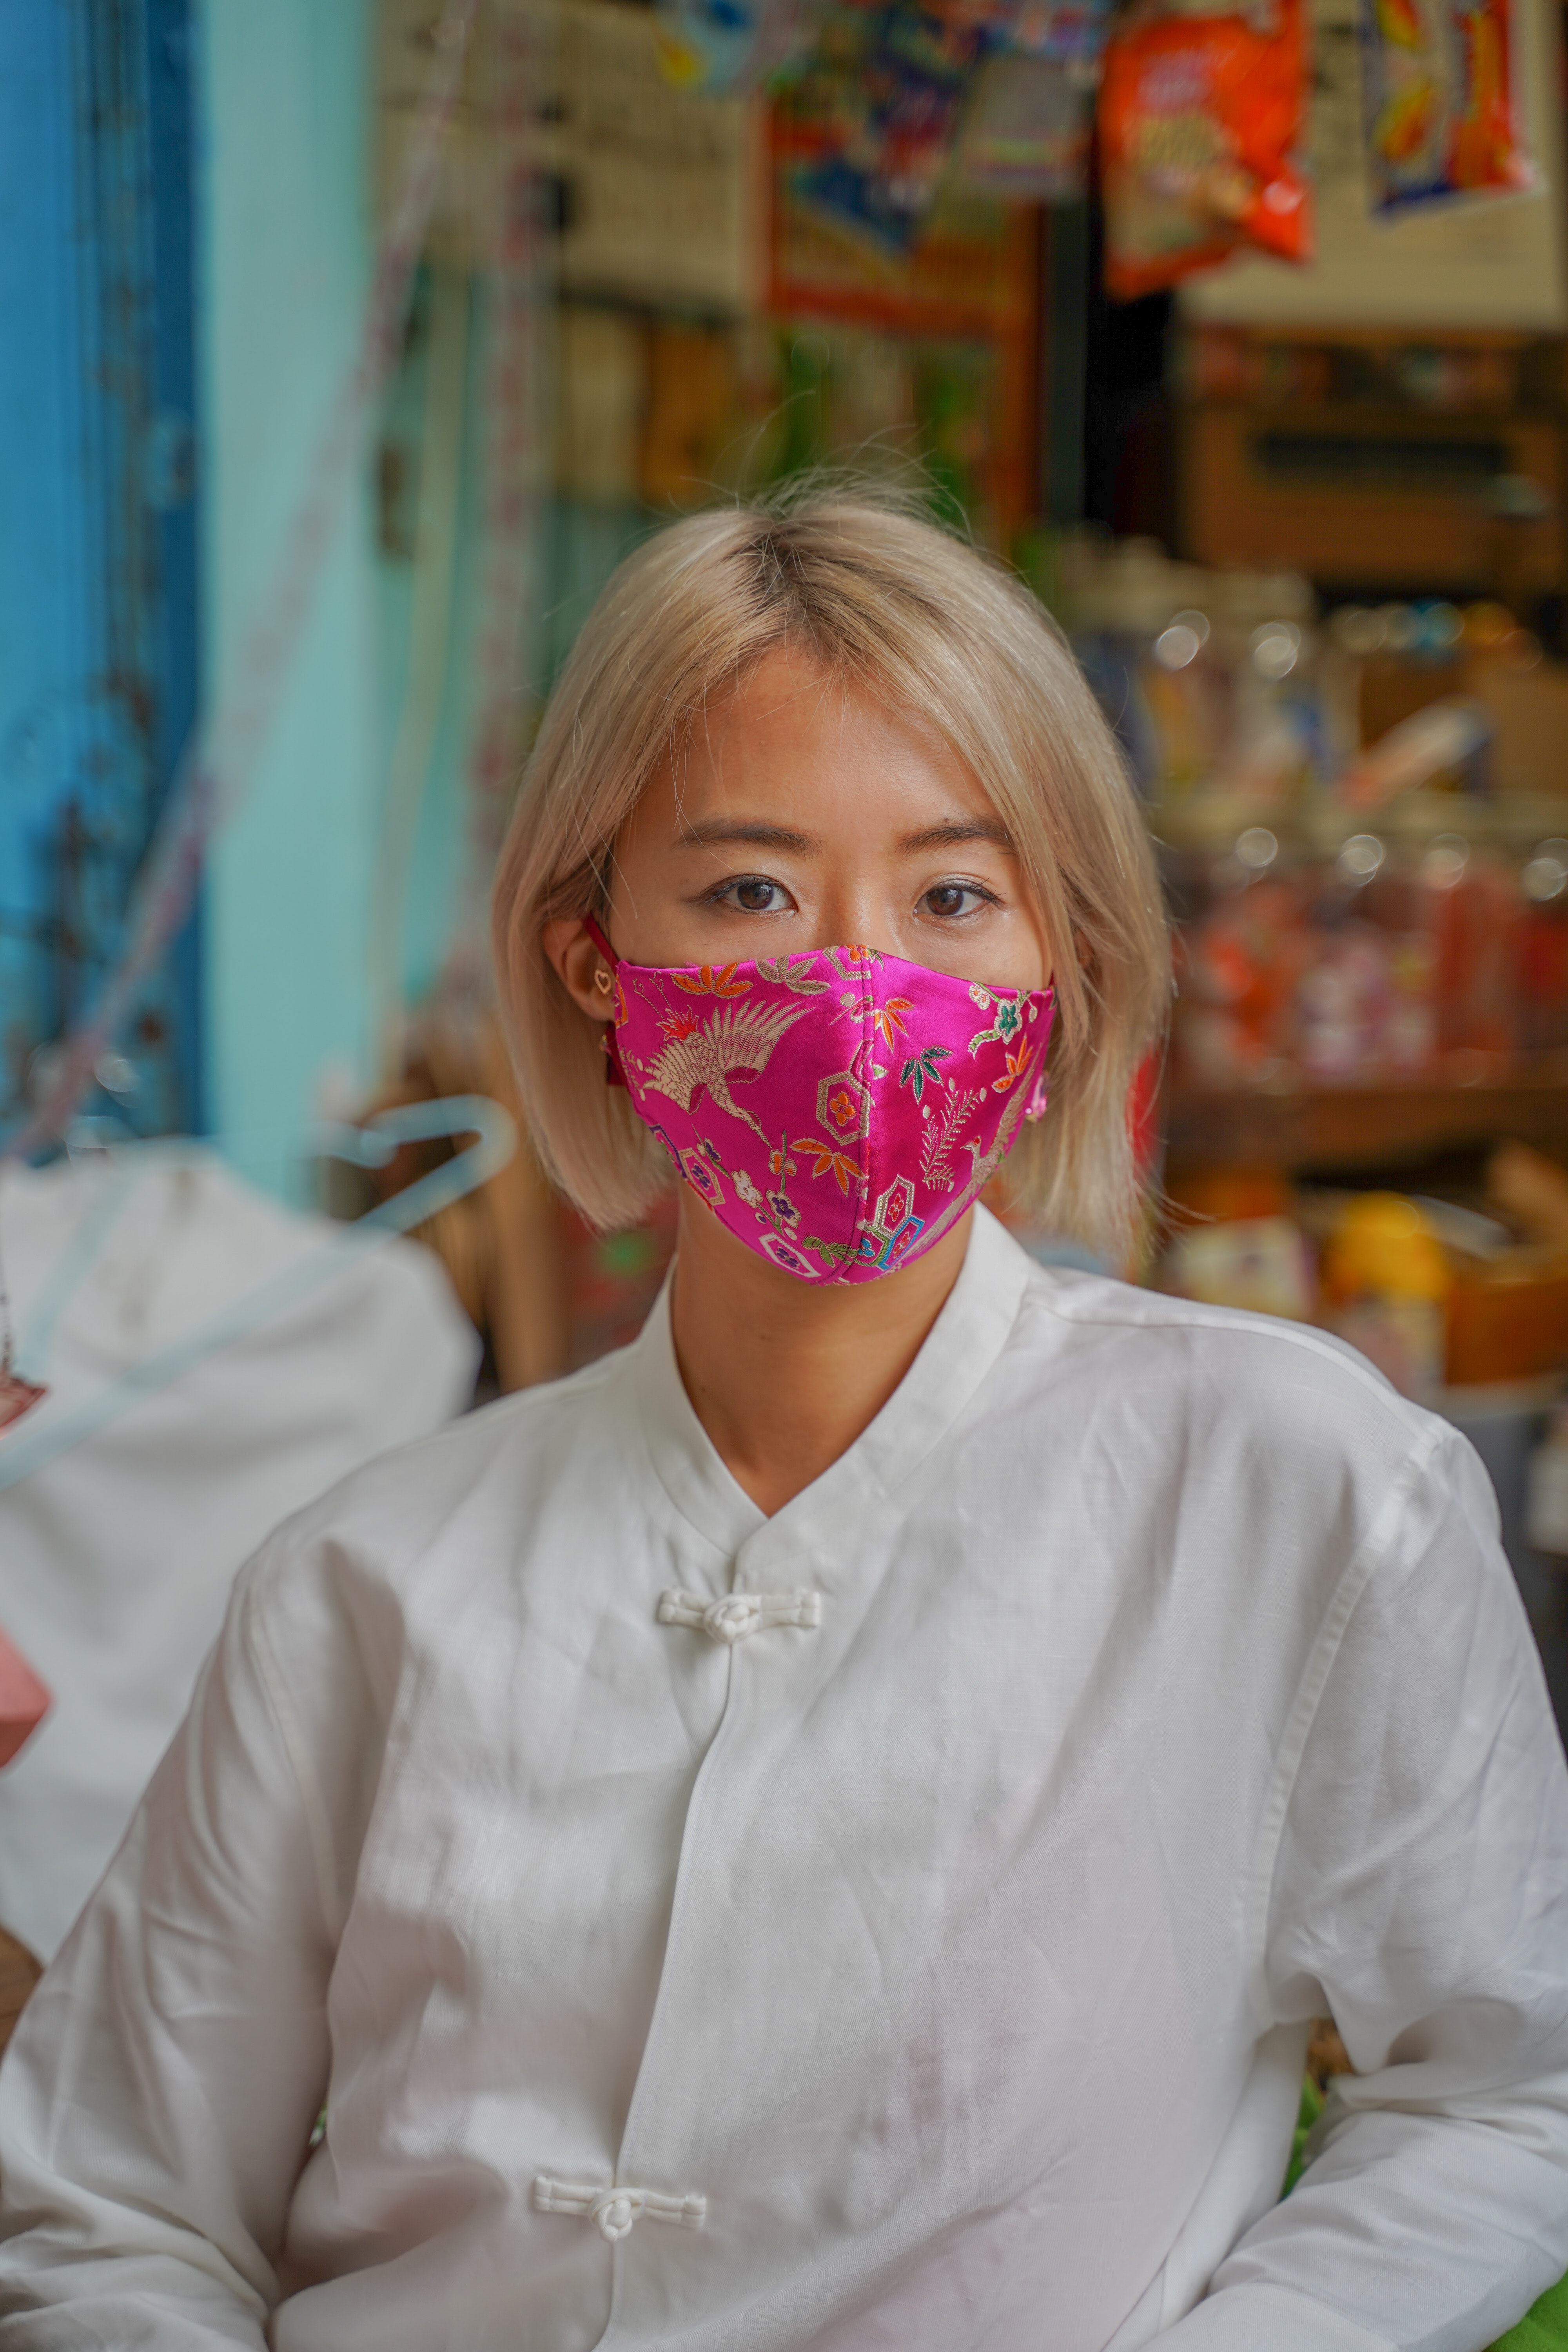mask: (588, 955, 1092, 1310)
person: (73, 485, 1557, 2352)
